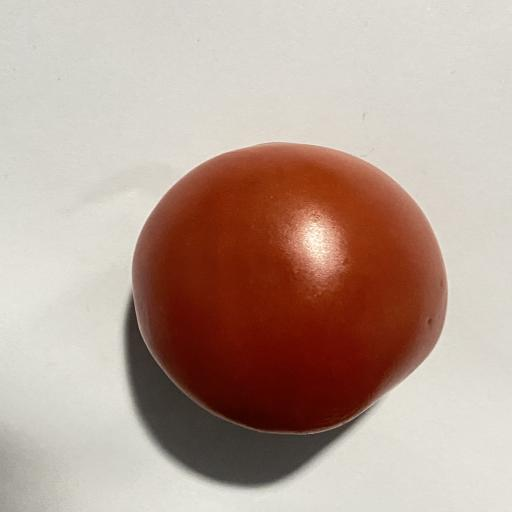ripe: (133, 143, 447, 433)
